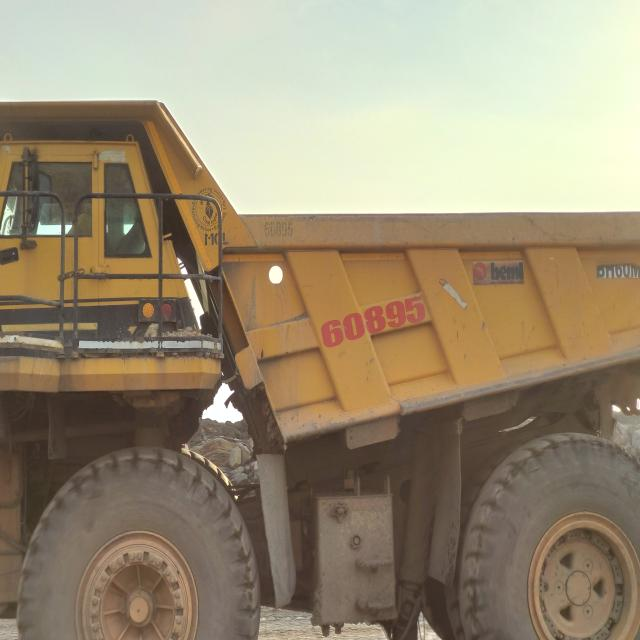dump_truck: (0, 102, 640, 638)
